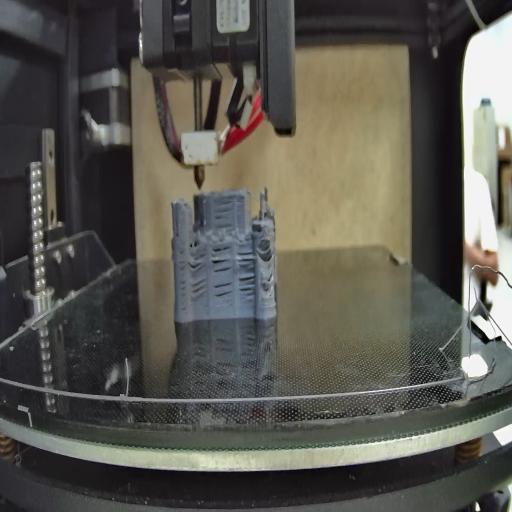cracks: (213, 195, 236, 229), (212, 245, 232, 274), (237, 272, 255, 302), (213, 280, 234, 302), (190, 278, 208, 300), (188, 252, 206, 273), (236, 248, 254, 268), (180, 256, 186, 312), (263, 241, 274, 260), (266, 270, 273, 283), (176, 226, 180, 238)
